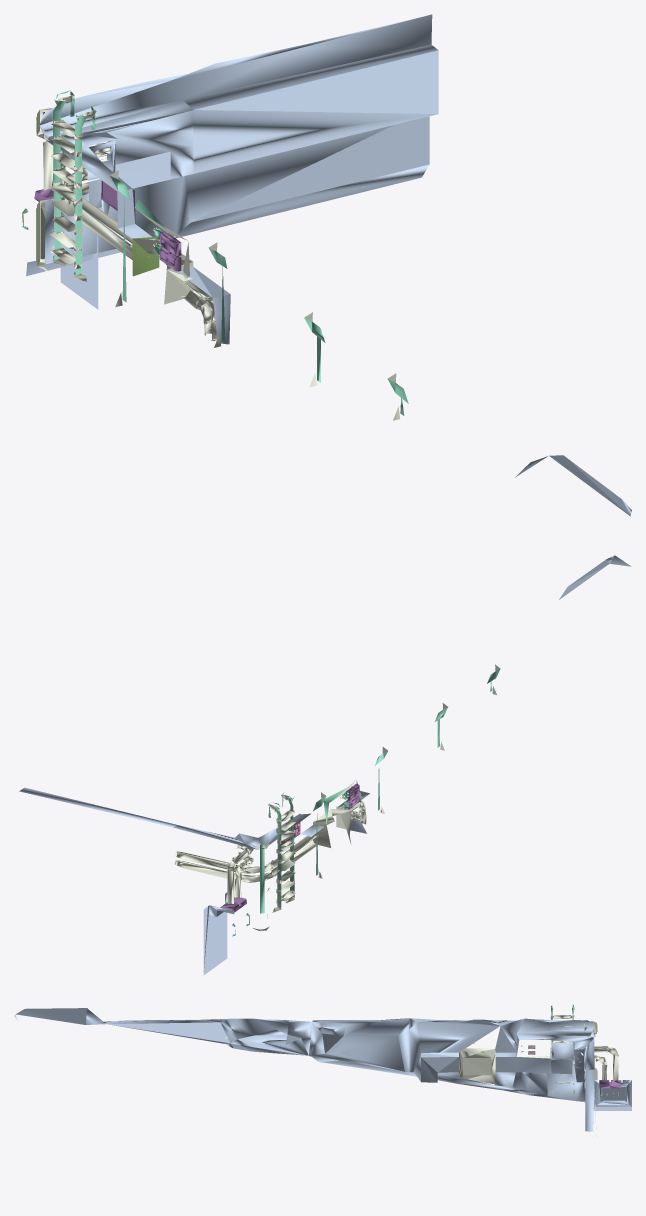
The model's file is Hangar_asteroid_pirate_floor_kit_angledfloorcap_r_01.glb.
The picture shows the model from 3 angles, top to bottom: view 1: azimuth 30°, elevation 25°; view 2: azimuth 150°, elevation 25°; view 3: azimuth 270°, elevation 25°; orthographic projection. The views are drawn at different scales.
Size of what is drawn, in the model's own units: 6.67 by 3.86 by 17.41.
